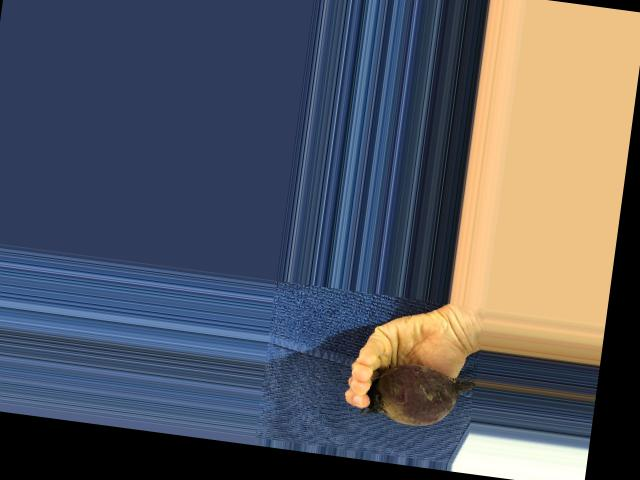beet: (358, 357, 476, 432)
